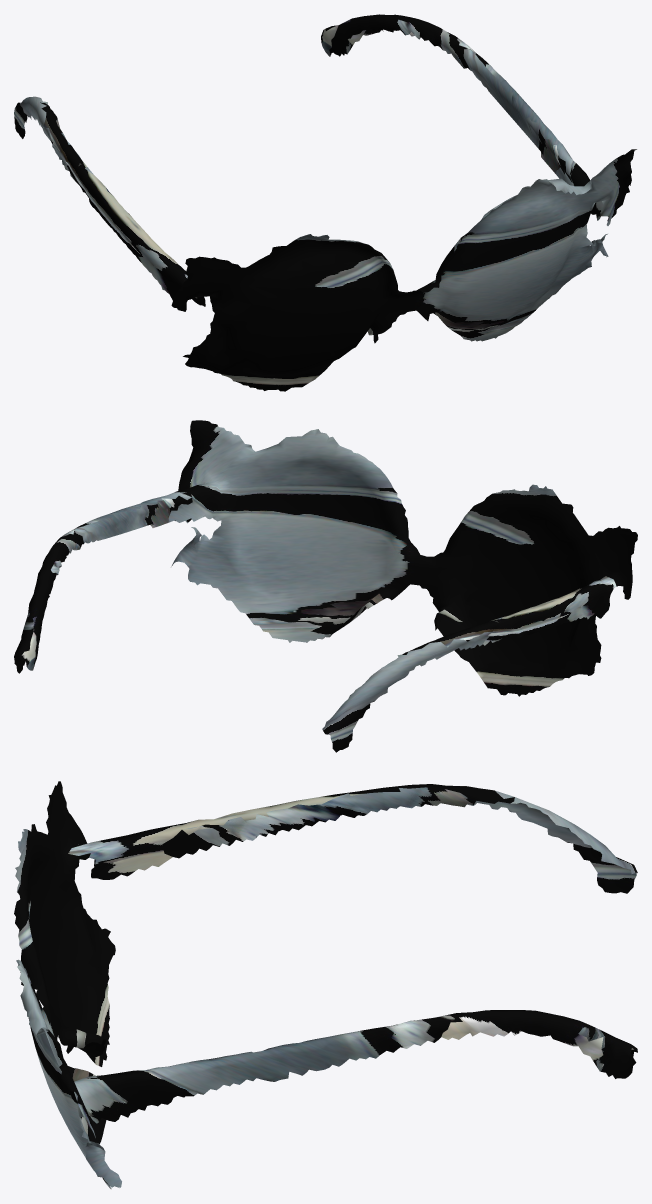
Rendered from scan_align.obj.
3 renders of one model, top to bottom at view 1: azimuth 30°, elevation 25°; view 2: azimuth 150°, elevation 25°; view 3: azimuth 270°, elevation 25°, orthographic. The views are drawn at different scales.
Size of the model in its own units: 0.1424 by 0.0557 by 0.141.
